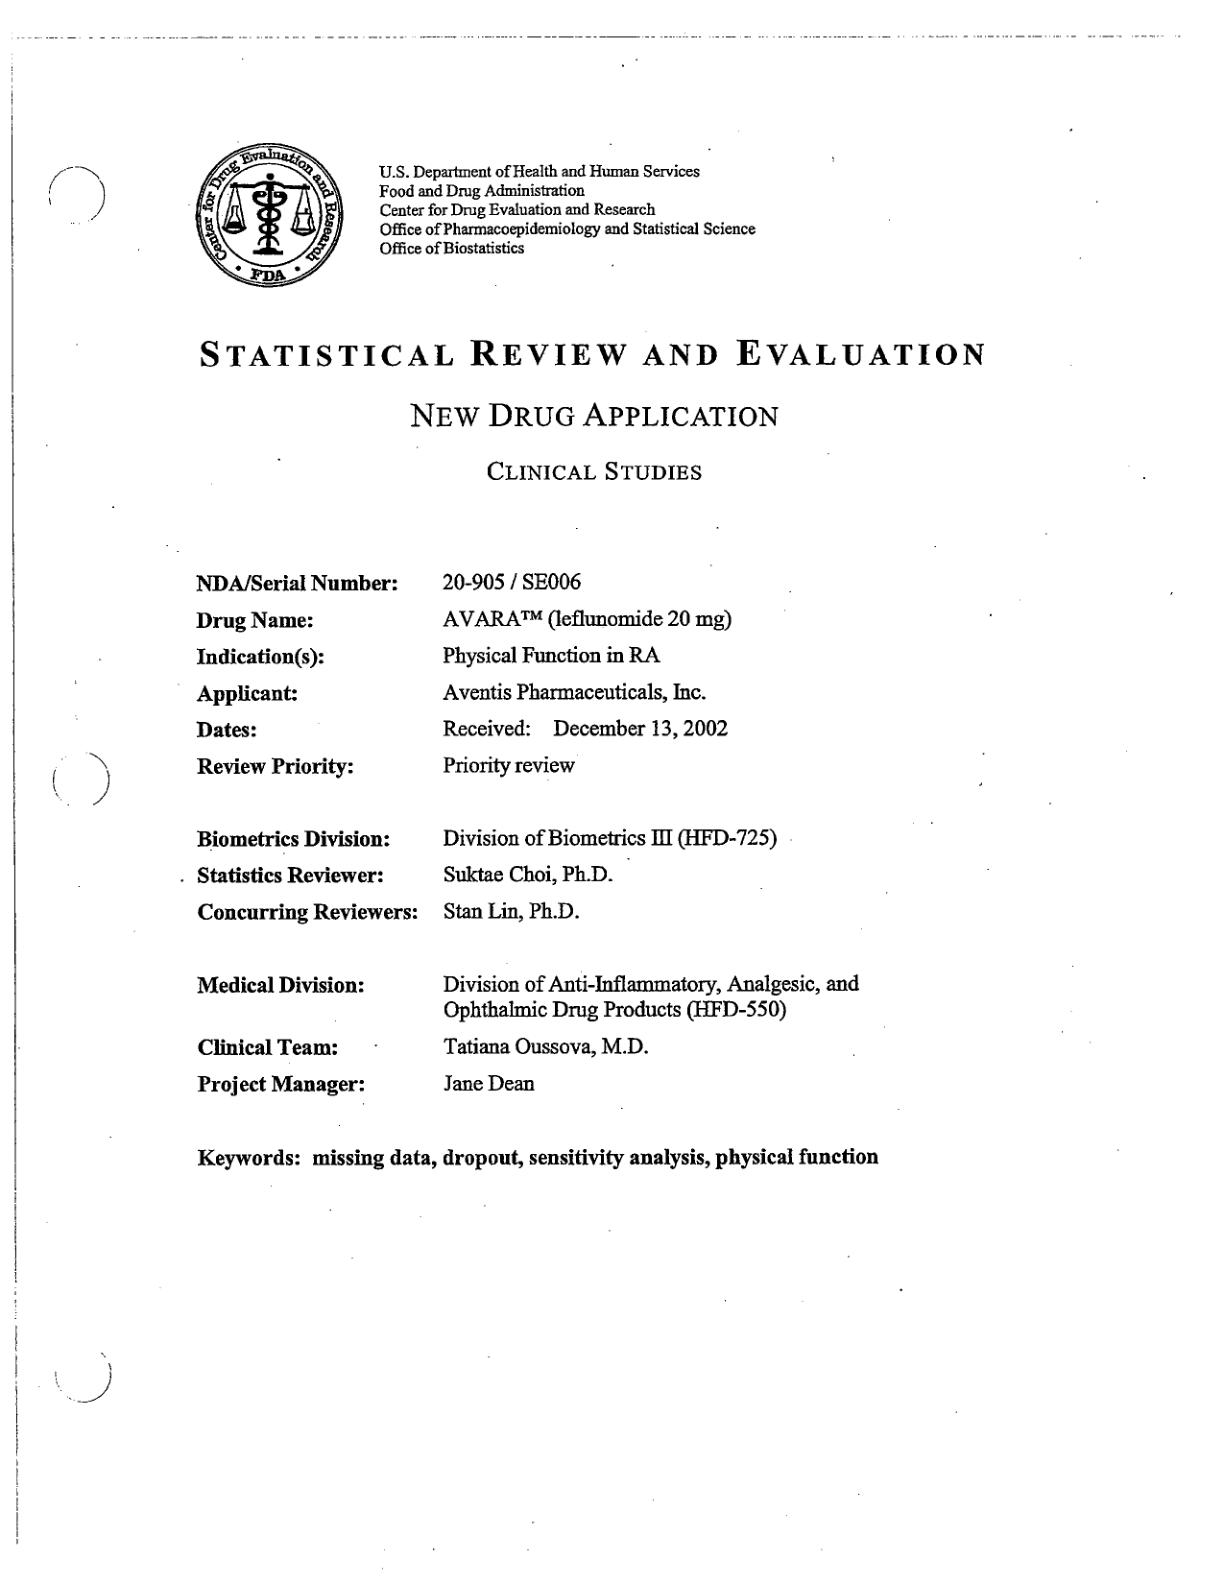nolines: (193, 570, 859, 1098)
